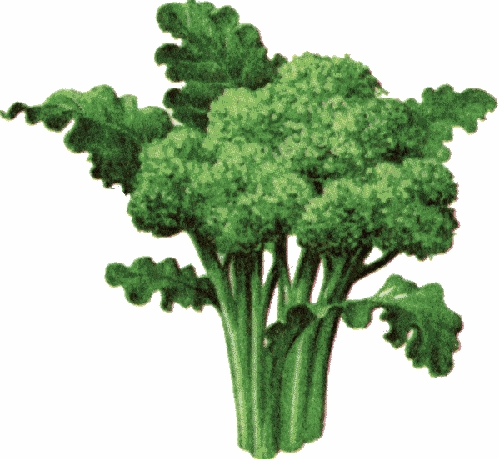broccoli: (124, 56, 457, 266)
